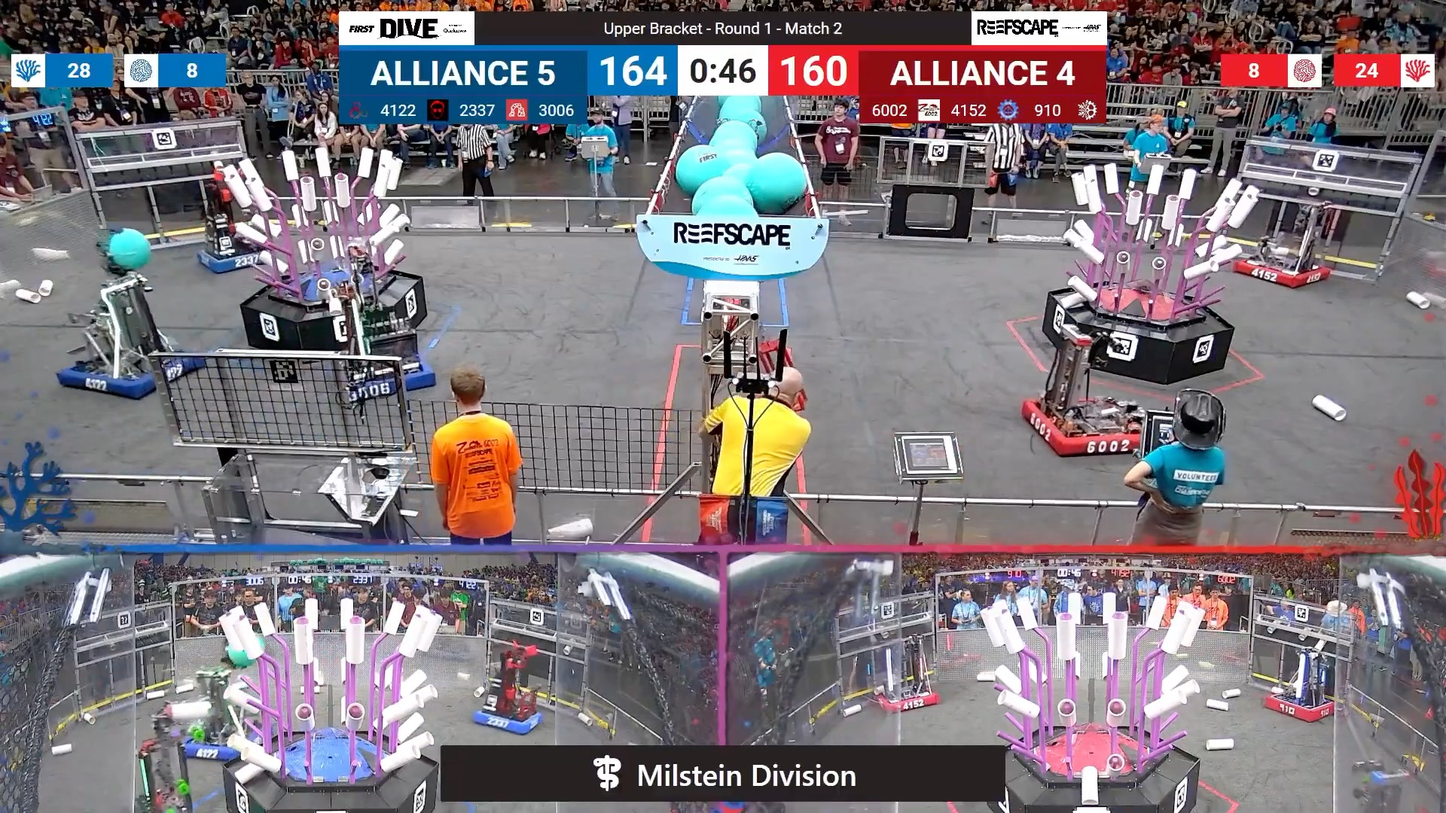bumpers: (1013, 394, 1151, 462), (51, 347, 206, 399), (325, 347, 440, 399), (1223, 254, 1339, 294), (164, 723, 253, 763), (464, 701, 552, 738), (190, 241, 275, 277), (1255, 690, 1344, 724), (868, 681, 946, 714)
